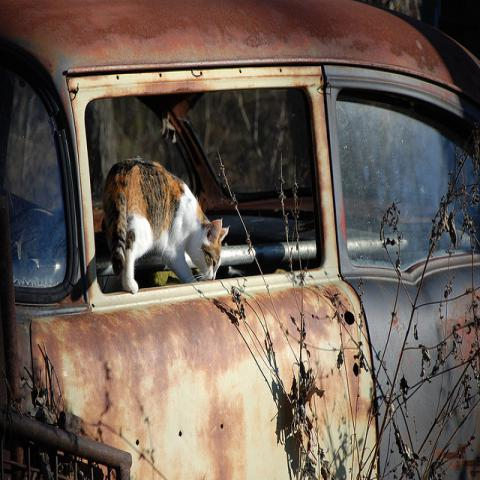car: (2, 1, 480, 474)
